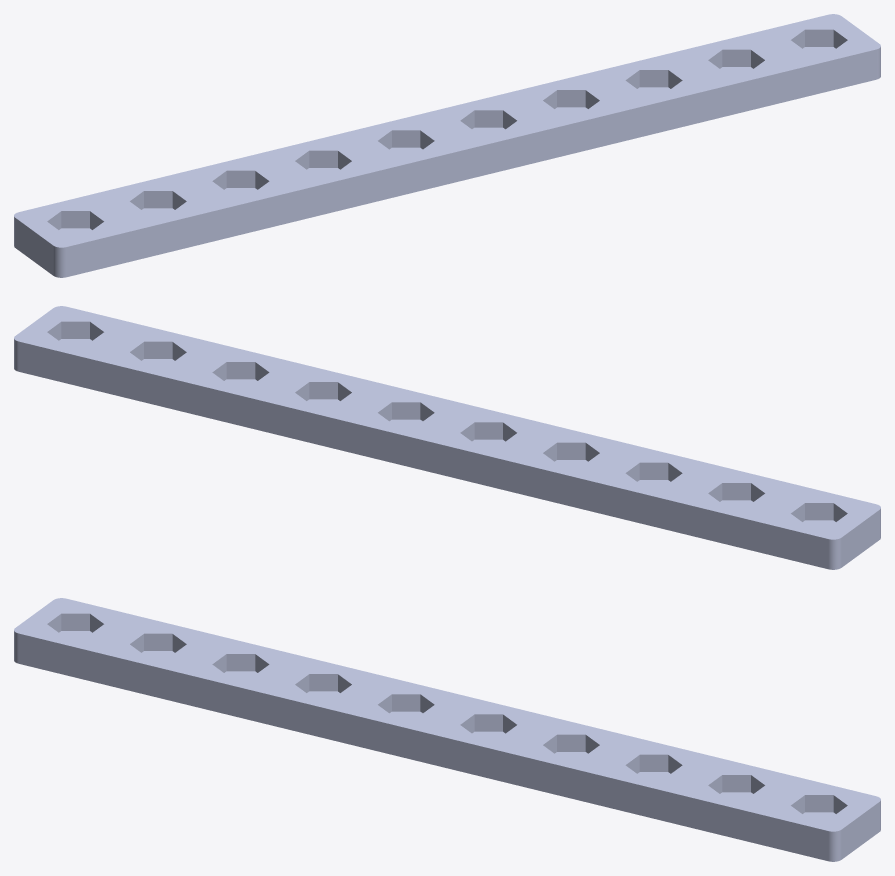
3 renders of one model, top to bottom at view 1: azimuth 30°, elevation 25°; view 2: azimuth 150°, elevation 25°; view 3: azimuth 330°, elevation 25°, orthographic.
Parts seen in each view (by area): view 1: S10; view 2: S10; view 3: S10.
Part boxes in pixels (x1,y1,x2,y2): S10: [14, 14, 880, 277]; S10: [14, 306, 880, 569]; S10: [14, 598, 880, 861].
Bounding box in the file's own units: 0.1 × 0.0035 × 0.01.
